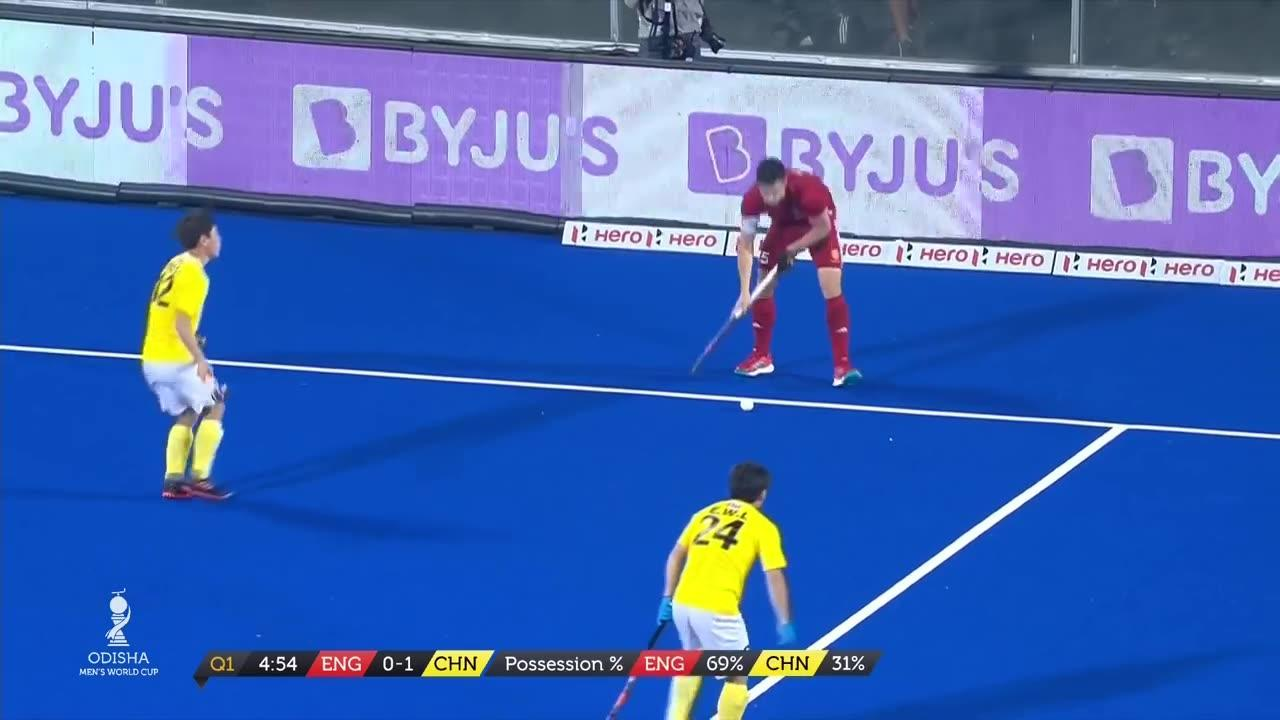ball: (730, 393, 763, 420)
